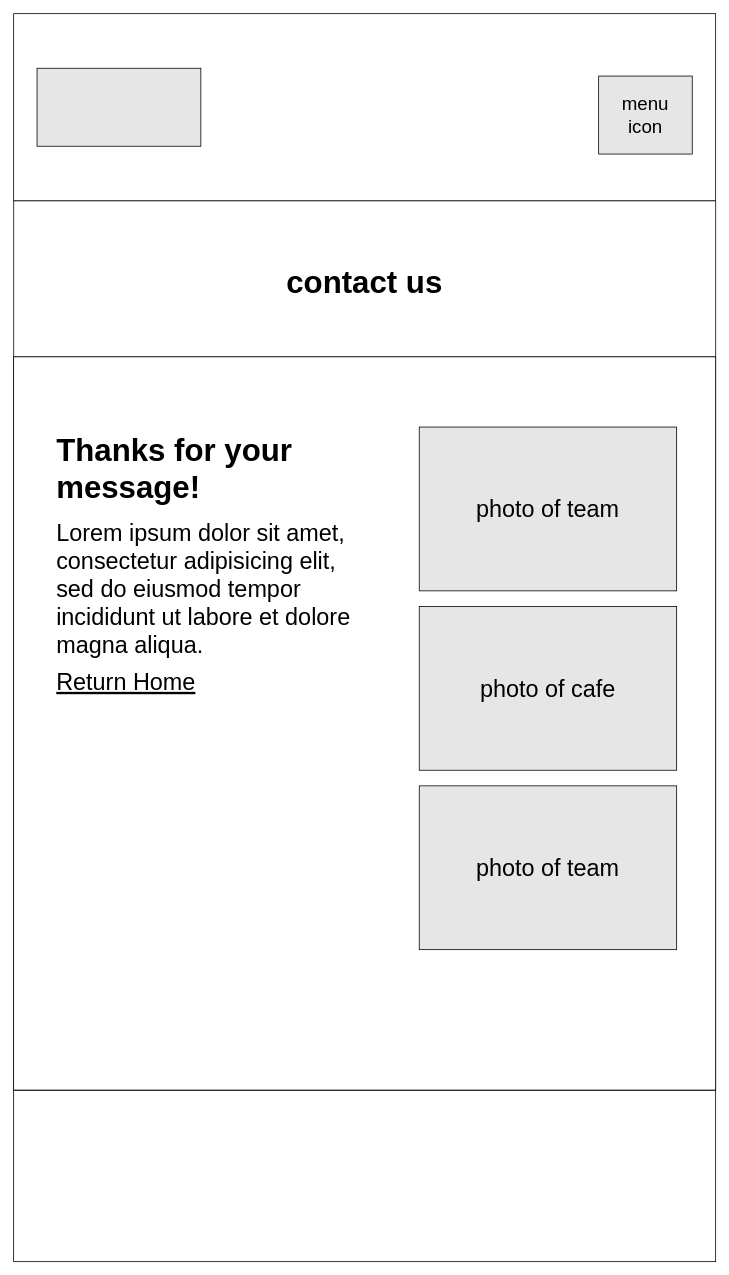
This 729x1275 diagram has some shape labels left out. Here are the shapes that lost their labels. From the top down, the centre of each, then its label:
the point at 118,106: Cafe Hoppers logo
the point at 364,1175: footer content
